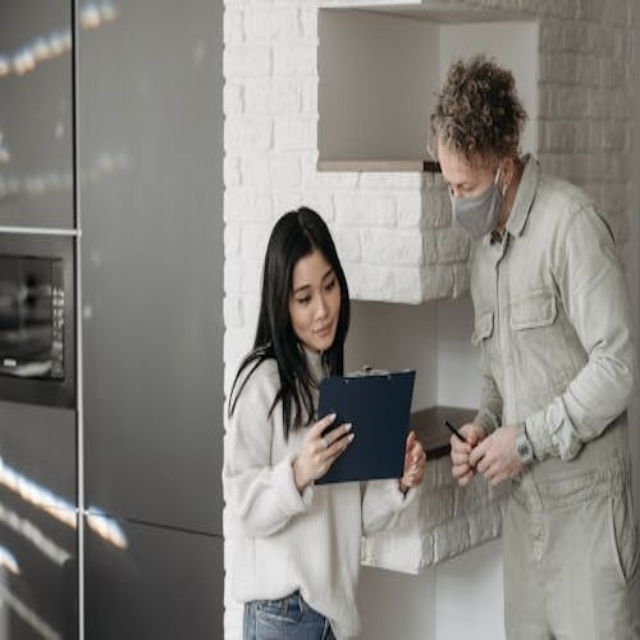Mascara: (450, 160, 504, 242)
Sin_gafas: (288, 263, 340, 312), (439, 169, 477, 197)
Sin_guantes: (289, 406, 366, 500), (463, 419, 523, 487), (400, 430, 427, 490)
Sin_mascara: (307, 316, 339, 341)
